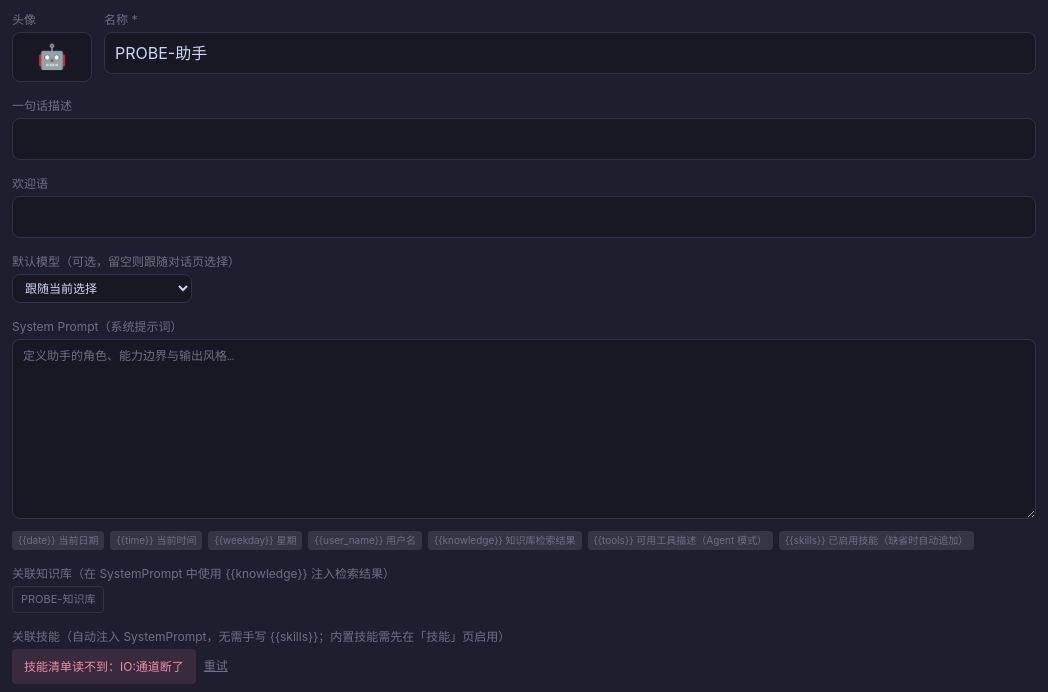
Test case: ② 工具与技能那两读：各挂一句、各给一颗键 › 技能读不到 ⇒ 「暂无可用技能」让位，那颗键点了有效
Step 1. Click the button with test id "assistant-editor-skills-retry" → (216, 666), box [204,658,228,674]
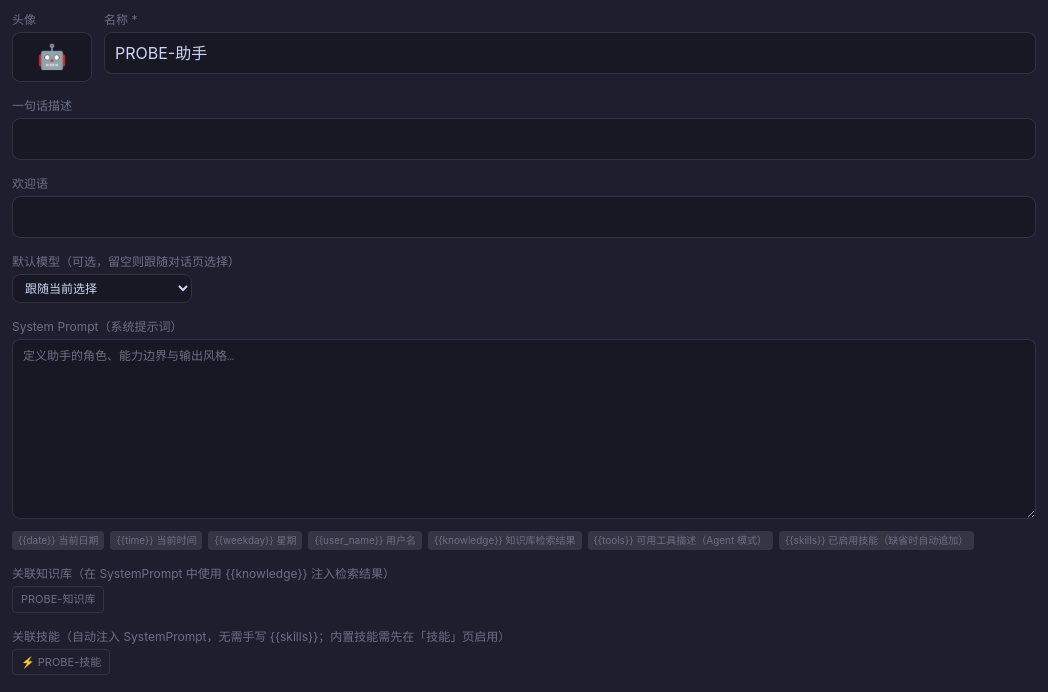
Check: the text "PROBE-技能" is shown, box [12,648,110,675]
